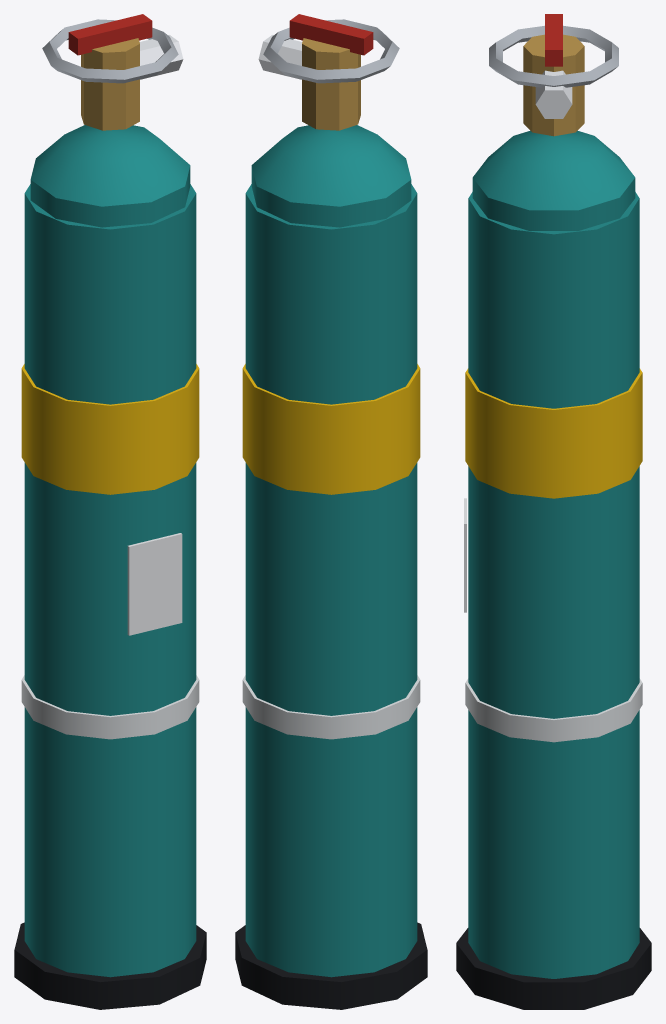
Rendered from tank_deuterium_bottle.glb.
3 renders of one model, left to right at view 1: azimuth 30°, elevation 25°; view 2: azimuth 150°, elevation 25°; view 3: azimuth 270°, elevation 25°, orthographic.
Parts seen in each view (by area): view 1: tank_deuterium_bottle; view 2: tank_deuterium_bottle; view 3: tank_deuterium_bottle.
Part boxes in pixels (x1,y1,x2,y2): tank_deuterium_bottle: (14, 14, 206, 1009); tank_deuterium_bottle: (235, 14, 427, 1009); tank_deuterium_bottle: (456, 14, 651, 1009).
Size of the model in its own units: 0.3043 by 1.69 by 0.32.
